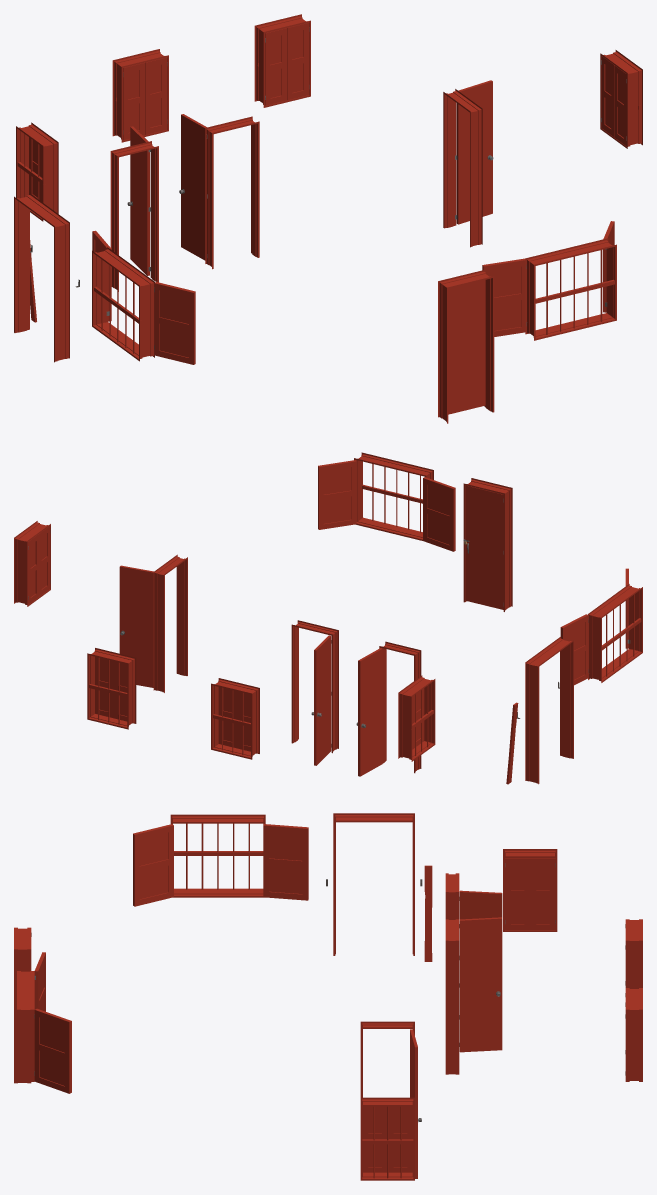
Rendered from Build_Puertas&Ventanas.fbx.
3 renders of one model, top to bottom at view 1: azimuth 30°, elevation 25°; view 2: azimuth 150°, elevation 25°; view 3: azimuth 270°, elevation 25°, orthographic. The views are drawn at different scales.
Parts seen in each view (by area): view 1: Build_Puertas&Ventanas; view 2: Build_Puertas&Ventanas; view 3: Build_Puertas&Ventanas.
Part boxes in pixels (x1,y1,x2,y2): Build_Puertas&Ventanas: (14, 14, 642, 423); Build_Puertas&Ventanas: (14, 452, 642, 784); Build_Puertas&Ventanas: (14, 813, 642, 1180).
Bounding box in the file's own units: 1017 × 220 × 927.
